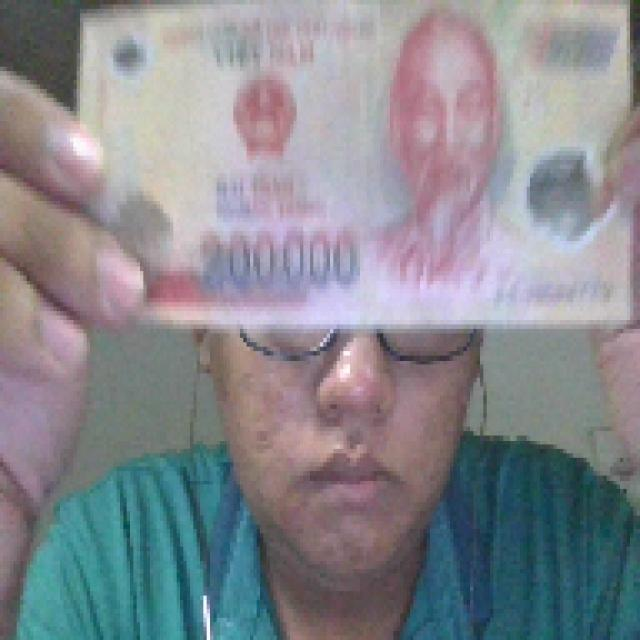200 000 VND: (70, 0, 637, 329)
